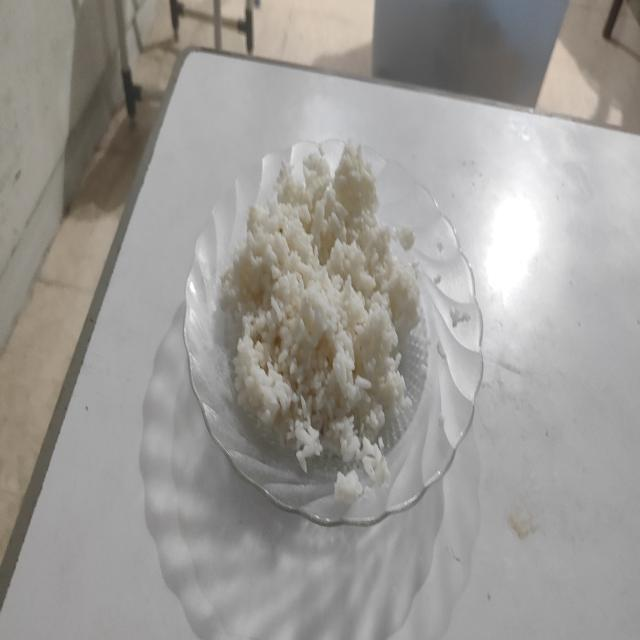nasi_putih: (224, 144, 426, 480)
